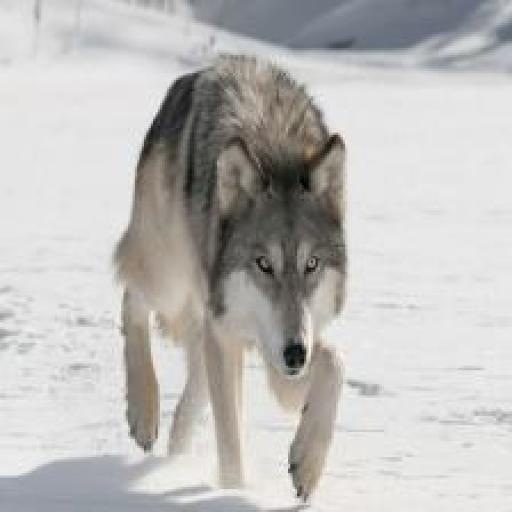wolf: (103, 41, 371, 511)
